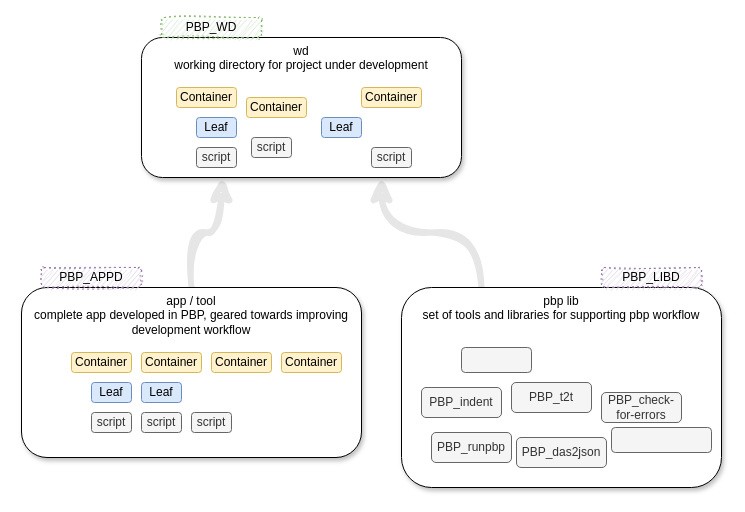
The diagram is 745 pixels wide and 512 high, and some of its shapes have lost their labels. Each missing label, with the centre of its shape:
PBP_dtree: the point at 496,359
PBP_splitoutputs: the point at 661,439
